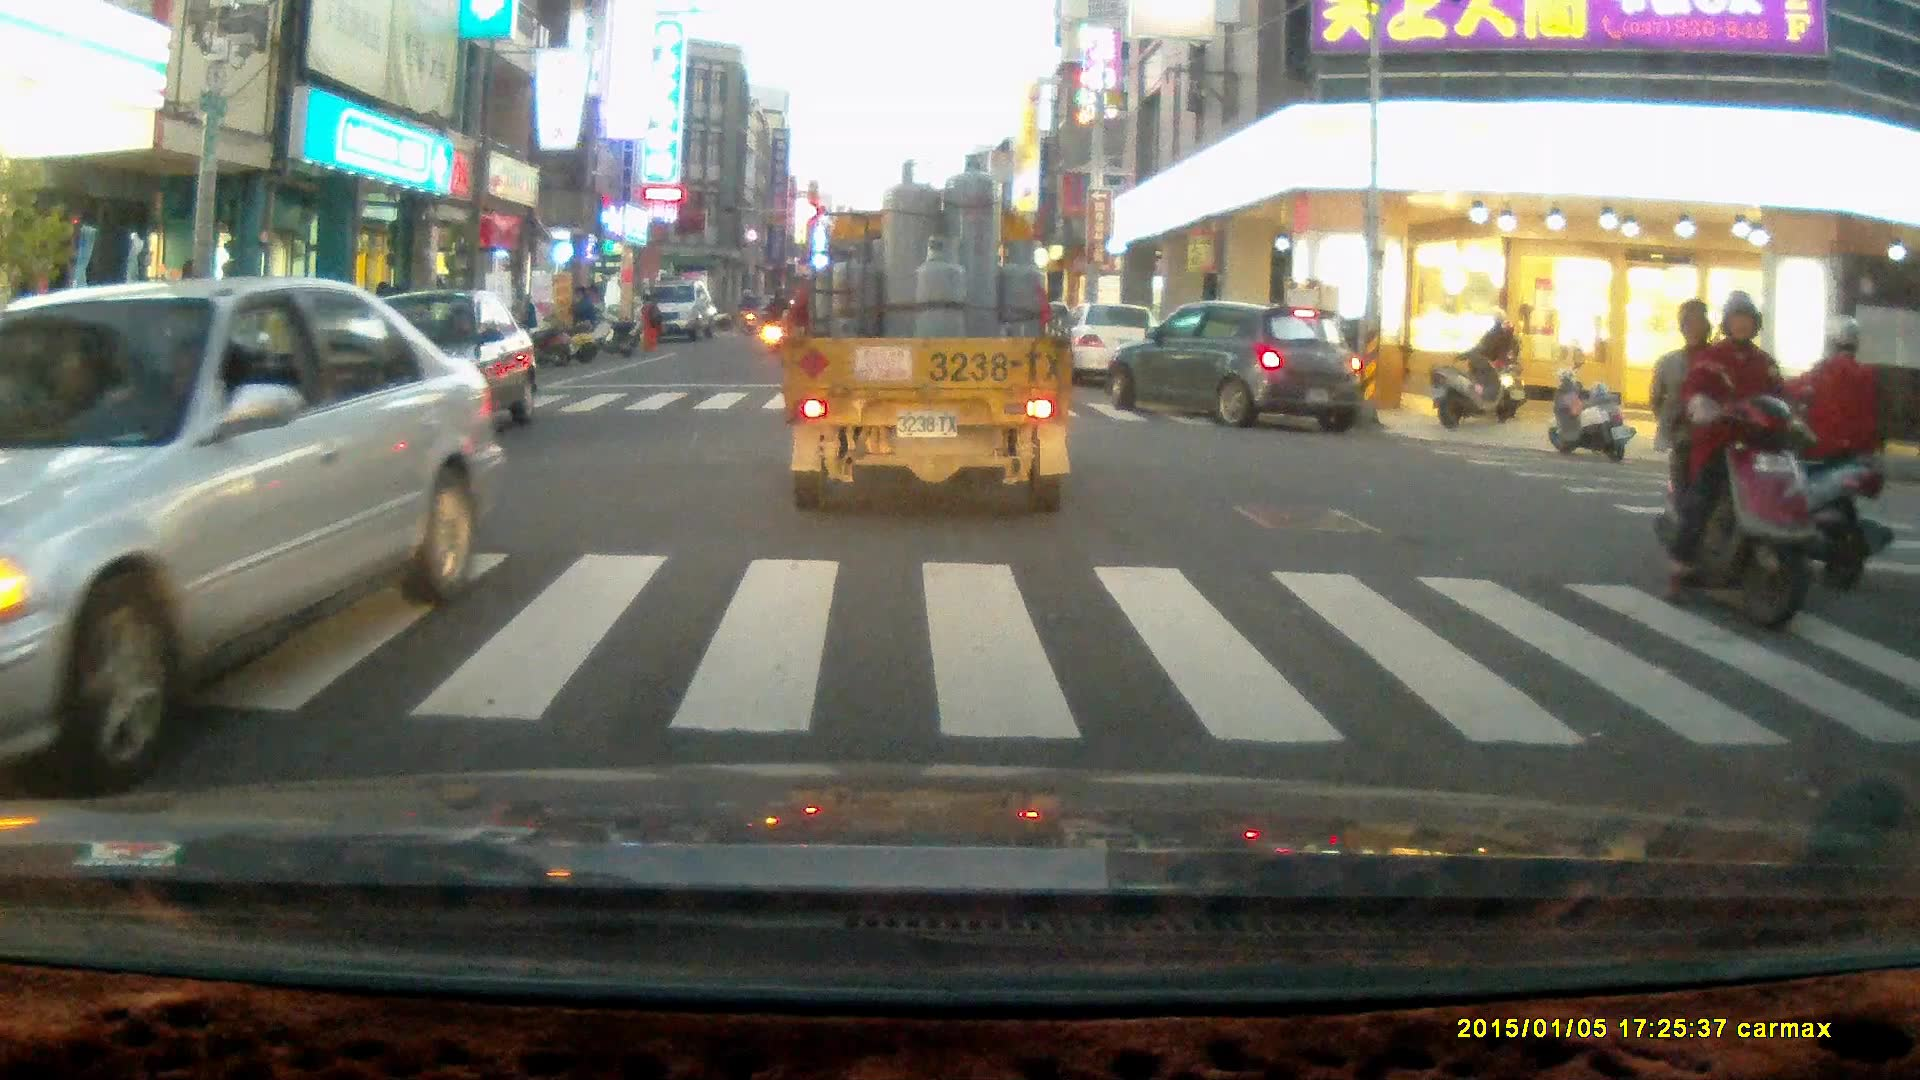pedestrian: (570, 284, 598, 349), (633, 293, 658, 353)
rider: (1640, 291, 1821, 638), (1754, 309, 1894, 602), (1466, 307, 1527, 425)
vehicle: (1, 277, 498, 790), (783, 153, 1079, 516), (1108, 302, 1364, 432), (1047, 305, 1172, 392), (633, 279, 710, 341)
